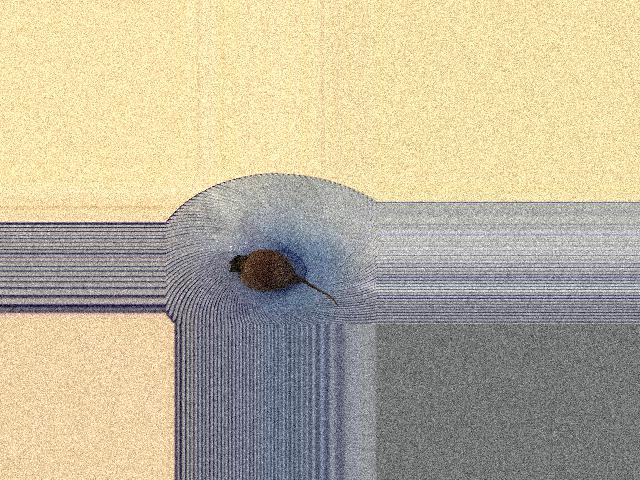beet: (229, 250, 337, 306)
